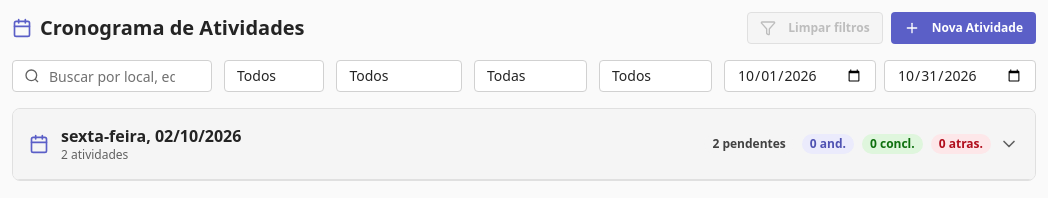
Test: CronogramaView — filtros › limpa os filtros e volta a listar tudo
Step 1. Type "Escola B" into the field named "Buscar atividade" → (112, 76), box top-left (12, 60), bottom-right (212, 92)
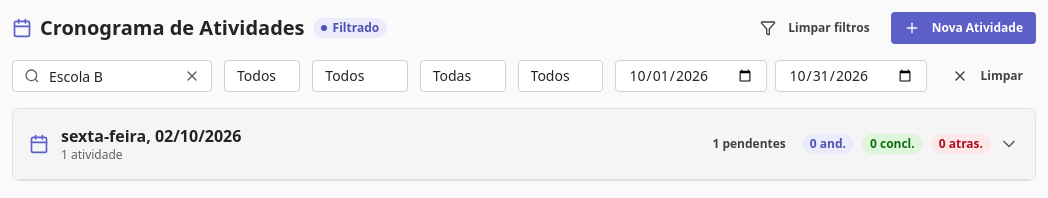
Step 2. Click the button "Limpar" → (988, 76), box top-left (940, 60), bottom-right (1036, 92)
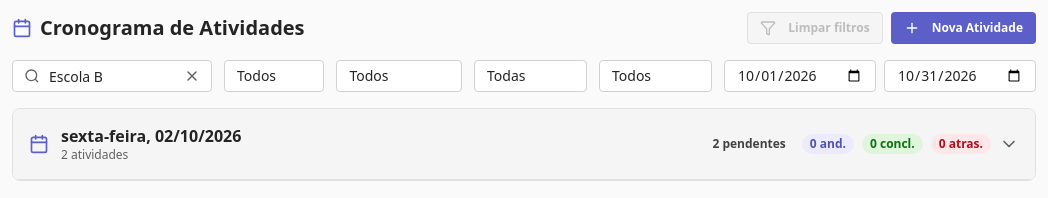
Check: the text "2 atividades" is shown, box top-left (61, 146), bottom-right (128, 163)
